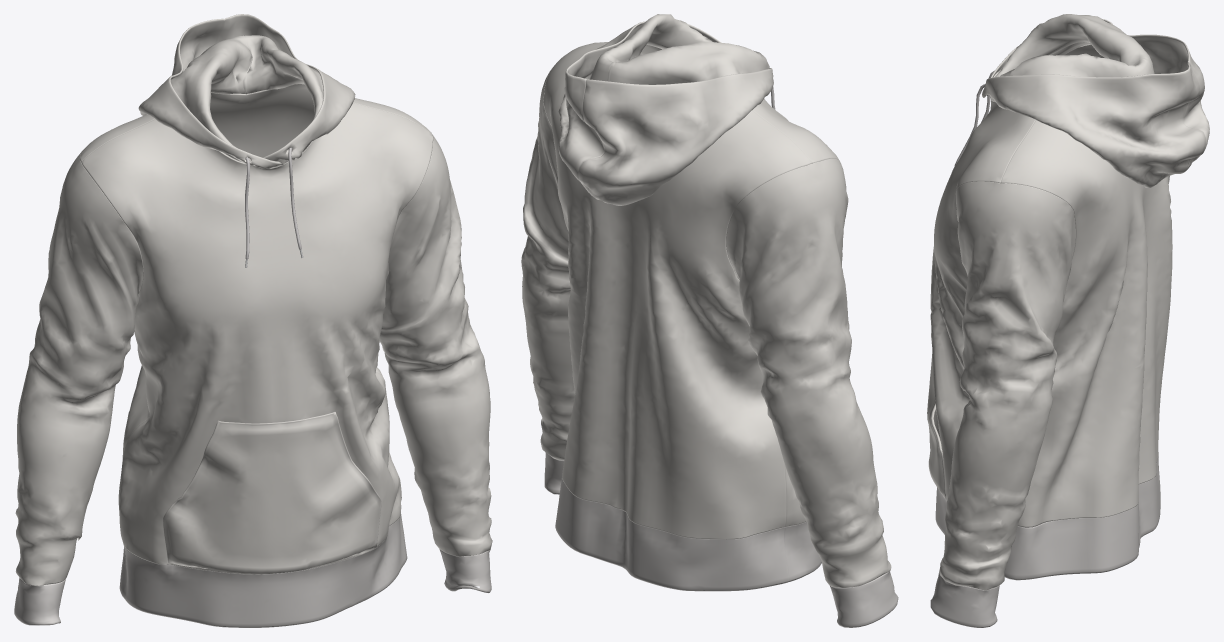
The model's file is hoodie-real.glb.
3 views of the same model, side by side, from view 1: azimuth 30°, elevation 25°; view 2: azimuth 150°, elevation 25°; view 3: azimuth 270°, elevation 25° (orthographic). The views are drawn at different scales.
Parts seen in each view (by area): view 1: Male_Hoodie_body_shape_001, Male_Hoodie_body_shape_03_001, Male_Hoodie_body_shape_01_001, Male_Hoodie_body_shape_02_001; view 2: Male_Hoodie_body_shape_001, Male_Hoodie_body_shape_03_001, Male_Hoodie_body_shape_01_001; view 3: Male_Hoodie_body_shape_001, Male_Hoodie_body_shape_03_001, Male_Hoodie_body_shape_01_001, Male_Hoodie_body_shape_02_001.
Part boxes in pixels (left/top/right/bottom): Male_Hoodie_body_shape_001: left=79, top=84, right=433, bottom=574; Male_Hoodie_body_shape_03_001: left=15, top=135, right=492, bottom=585; Male_Hoodie_body_shape_01_001: left=14, top=14, right=491, bottom=627; Male_Hoodie_body_shape_02_001: left=163, top=147, right=381, bottom=573; Male_Hoodie_body_shape_001: left=543, top=42, right=839, bottom=539; Male_Hoodie_body_shape_03_001: left=521, top=69, right=891, bottom=587; Male_Hoodie_body_shape_01_001: left=544, top=14, right=898, bottom=627; Male_Hoodie_body_shape_001: left=930, top=42, right=1172, bottom=527; Male_Hoodie_body_shape_03_001: left=939, top=44, right=1104, bottom=590; Male_Hoodie_body_shape_01_001: left=930, top=14, right=1209, bottom=627; Male_Hoodie_body_shape_02_001: left=927, top=70, right=994, bottom=498.
Bounding box in the file's own units: 59.3 × 73.29 × 36.74.
Materials: 1 (1 with a texture image).
